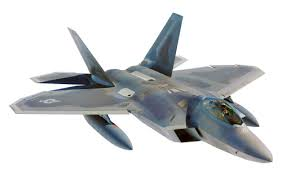fighter: (8, 11, 276, 166)
